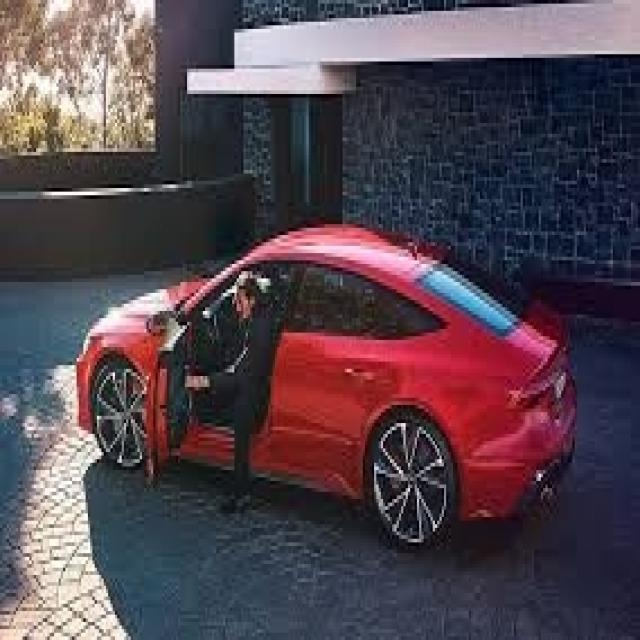red: (61, 212, 572, 533)
